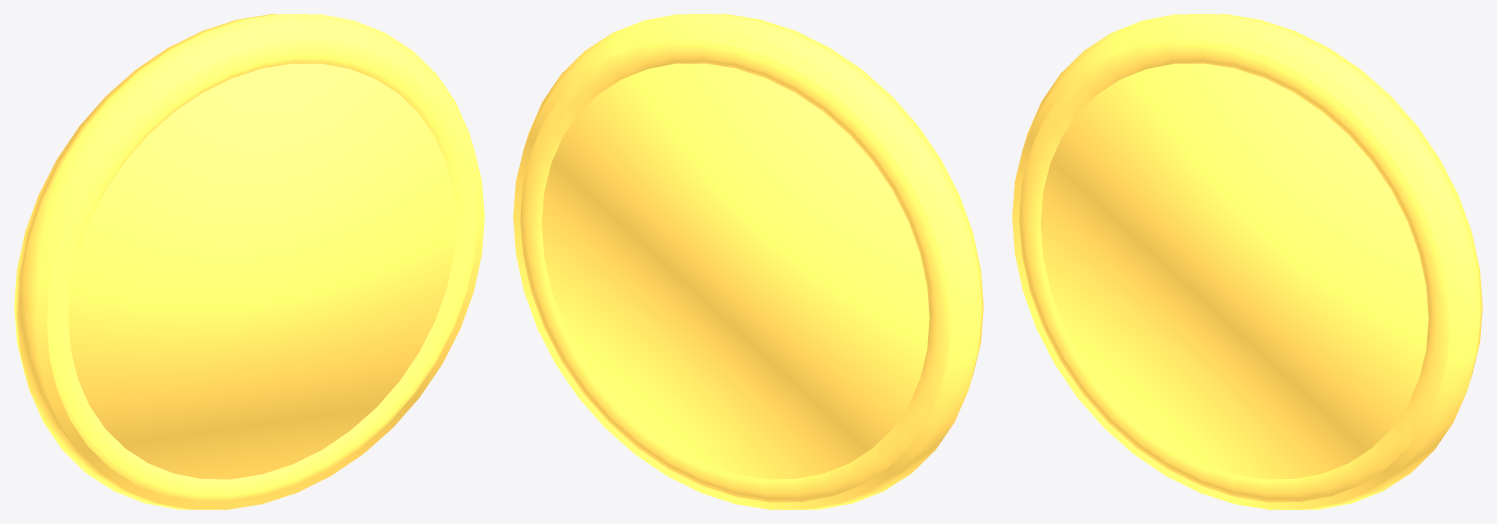
Rendered from coin.fbx.
3 views of the same model, side by side, from view 1: azimuth 30°, elevation 25°; view 2: azimuth 150°, elevation 25°; view 3: azimuth 330°, elevation 25° (orthographic).
Visible parts, largest first — view 1: Coin; view 2: Coin; view 3: Coin.
Part boxes in pixels (<box>): Coin: <box>14,14,484,509</box>; Coin: <box>513,14,983,509</box>; Coin: <box>1012,14,1482,509</box>.
Size of the model in its own units: 104 by 104 by 12.
